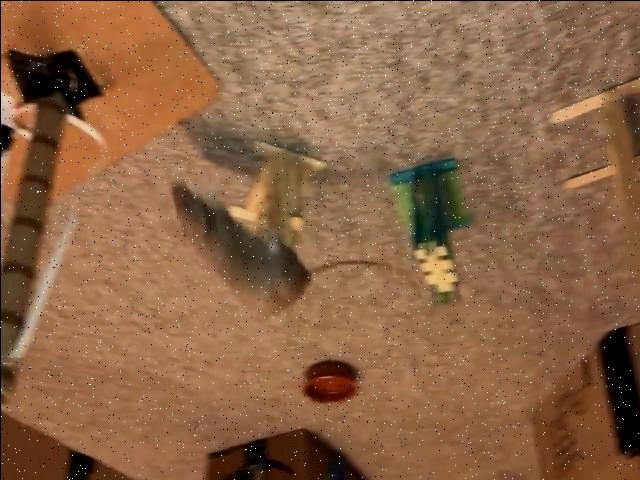Tikus: (172, 182, 396, 322)
